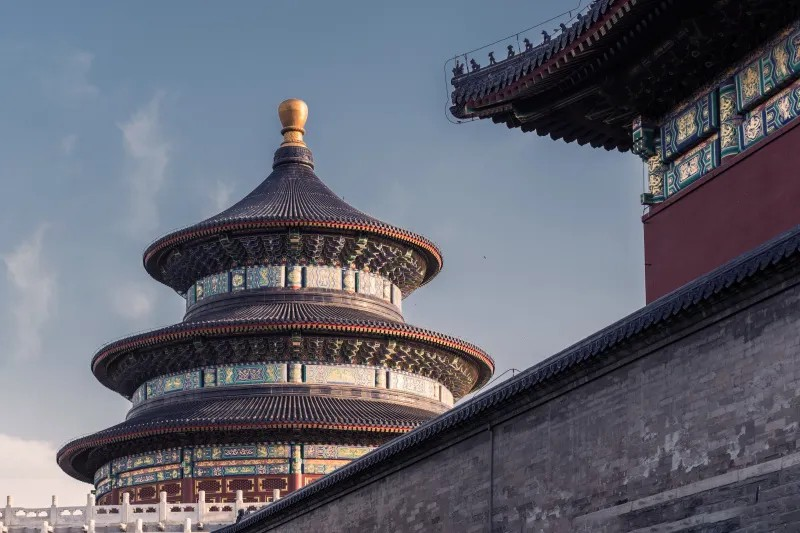Heaven: (56, 99, 496, 516)
